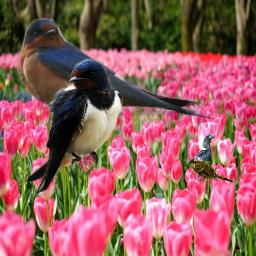Crow: (194, 134, 214, 161)
Cuckoo: (187, 158, 235, 183)
Swallow: (17, 18, 218, 121), (24, 58, 123, 198)
